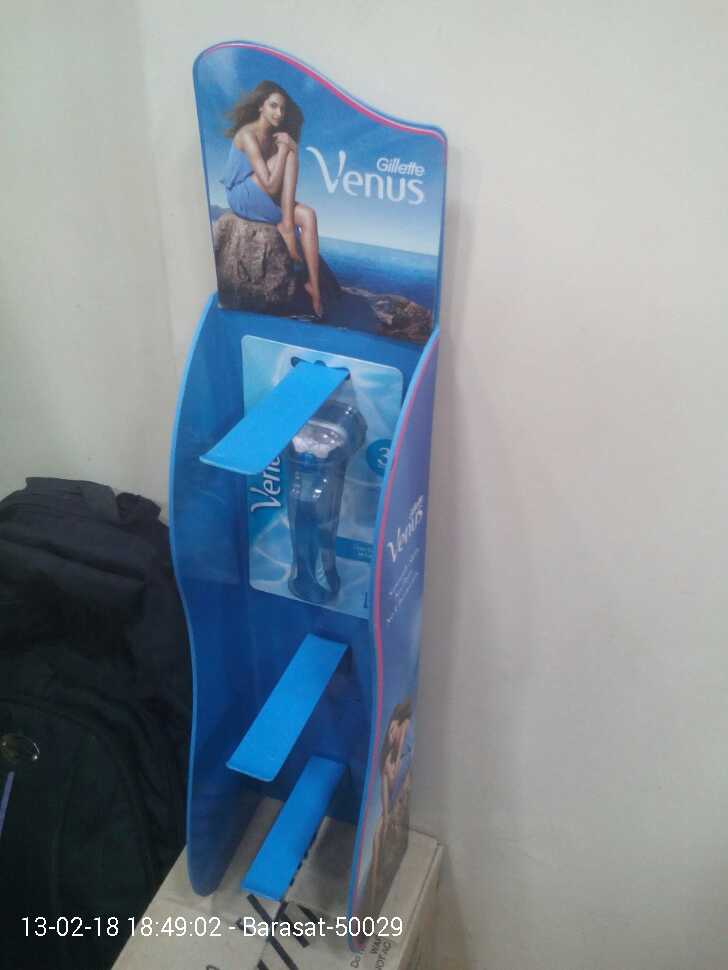venus: (243, 337, 377, 619)
